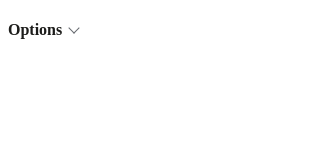
Test: Popover › keeps its content hidden until the trigger is pressed
Click the button "Options" at (43, 30), box [8, 8, 78, 52]
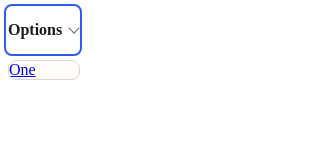
Now the link "One" is shown, box [9, 61, 36, 78]
